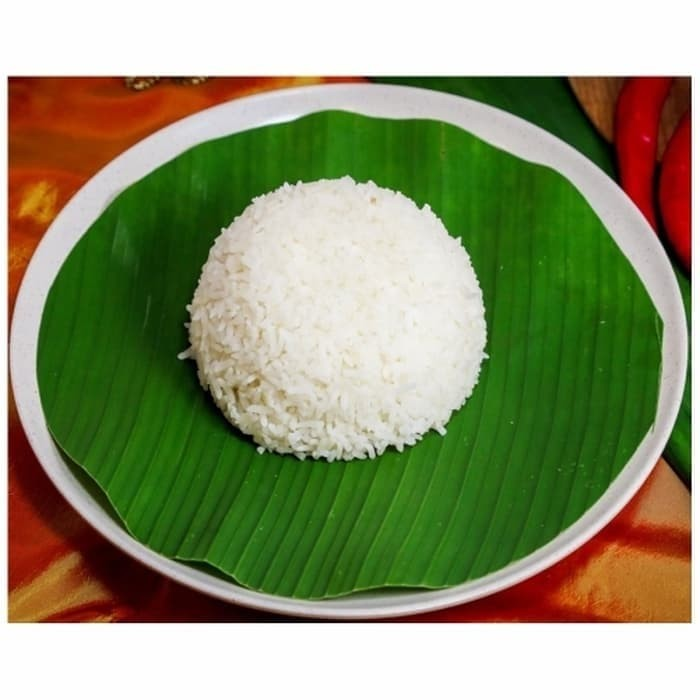Nasi Putih: (150, 169, 489, 494)
